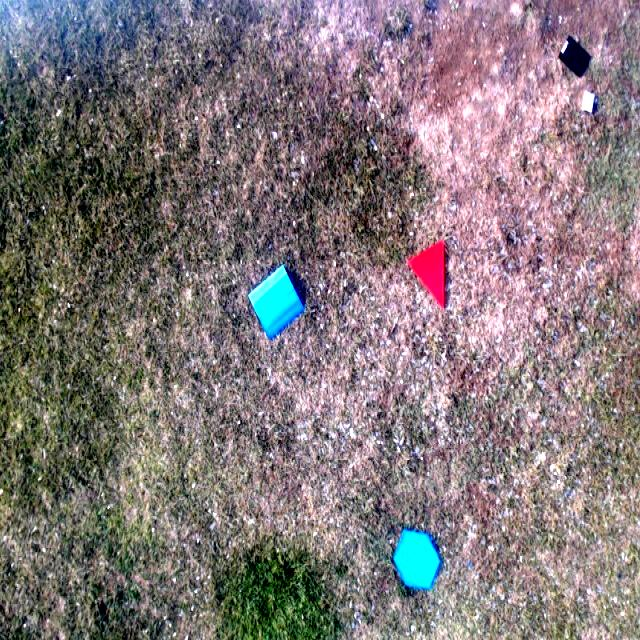blue_hexagon: (390, 528, 442, 592)
blue_square: (246, 264, 306, 343)
red_triangle: (408, 241, 446, 310)
